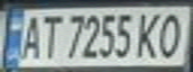2: (81, 10, 103, 60)
5: (100, 10, 121, 58), (115, 10, 136, 58)
7: (60, 10, 84, 60)
A: (18, 11, 45, 61)
K: (133, 9, 163, 60)
O: (154, 9, 190, 60)
T: (36, 11, 63, 60)
